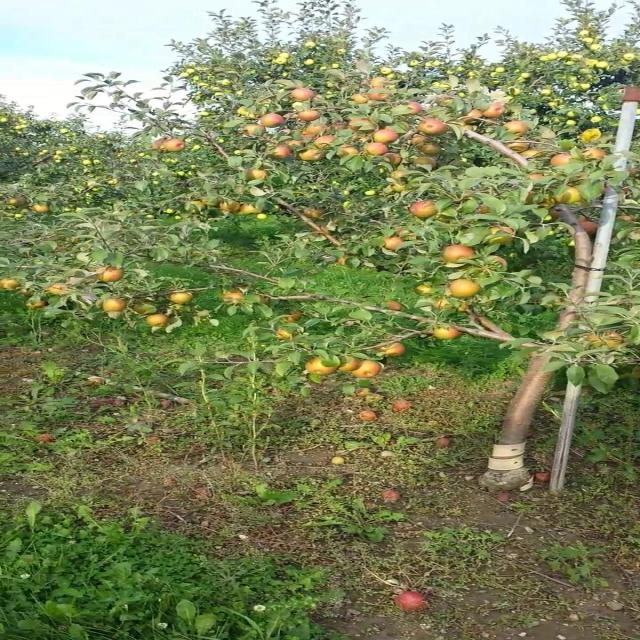apple: (447, 280, 482, 297), (447, 244, 476, 263), (355, 360, 384, 379), (305, 360, 336, 376), (490, 228, 519, 244), (554, 188, 583, 204), (419, 120, 448, 136), (412, 204, 439, 218), (99, 268, 124, 283), (604, 332, 626, 348), (433, 328, 462, 340), (362, 144, 391, 156), (340, 356, 361, 372), (483, 104, 505, 119), (305, 124, 327, 139), (170, 292, 194, 304), (582, 148, 606, 160), (305, 148, 327, 161), (291, 88, 313, 101), (148, 316, 171, 328), (582, 220, 601, 234), (262, 116, 284, 128), (106, 300, 128, 312), (383, 344, 405, 356), (419, 144, 441, 156), (305, 208, 327, 220), (504, 124, 528, 135), (163, 140, 185, 152), (284, 312, 306, 324), (376, 132, 398, 144), (220, 200, 242, 212), (49, 284, 71, 296), (305, 124, 329, 135), (461, 112, 484, 123), (525, 148, 546, 160), (397, 228, 418, 240), (383, 240, 405, 251), (6, 196, 28, 207), (582, 132, 604, 143), (540, 212, 562, 223), (554, 156, 574, 168), (241, 204, 261, 216), (319, 136, 336, 150), (511, 140, 530, 152), (248, 124, 267, 136), (369, 92, 391, 102), (355, 120, 375, 131), (625, 88, 639, 103), (276, 328, 293, 340), (525, 192, 542, 204), (298, 112, 320, 121), (419, 156, 437, 167), (227, 292, 245, 303), (404, 104, 423, 114), (340, 148, 361, 157), (433, 300, 453, 309), (248, 172, 270, 180), (276, 148, 292, 159), (412, 136, 428, 147), (28, 300, 50, 308), (355, 388, 372, 398), (136, 304, 151, 315), (476, 204, 491, 215), (284, 140, 304, 148), (369, 80, 388, 88), (6, 280, 21, 290), (390, 184, 407, 192), (440, 96, 455, 105), (36, 204, 50, 213), (390, 304, 405, 312), (355, 96, 370, 104), (390, 156, 405, 164), (191, 200, 206, 208), (497, 256, 508, 266), (340, 256, 352, 265), (419, 288, 434, 295), (392, 172, 407, 179), (525, 176, 546, 181), (156, 140, 165, 151), (333, 124, 347, 131), (305, 132, 318, 139)
